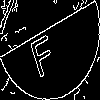F: (25, 25, 59, 79)
